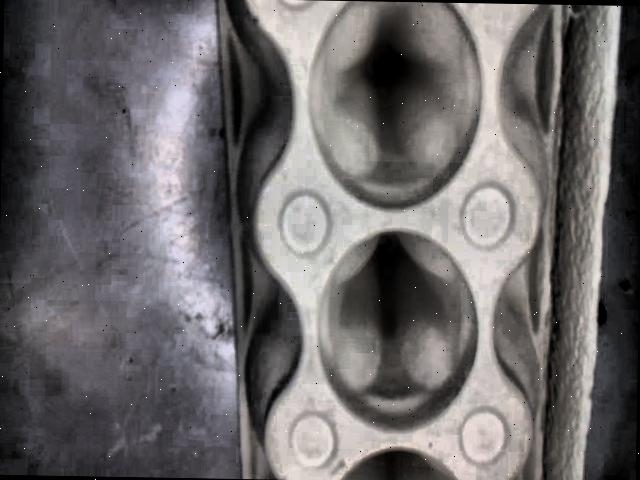Paper: (215, 0, 624, 480)
